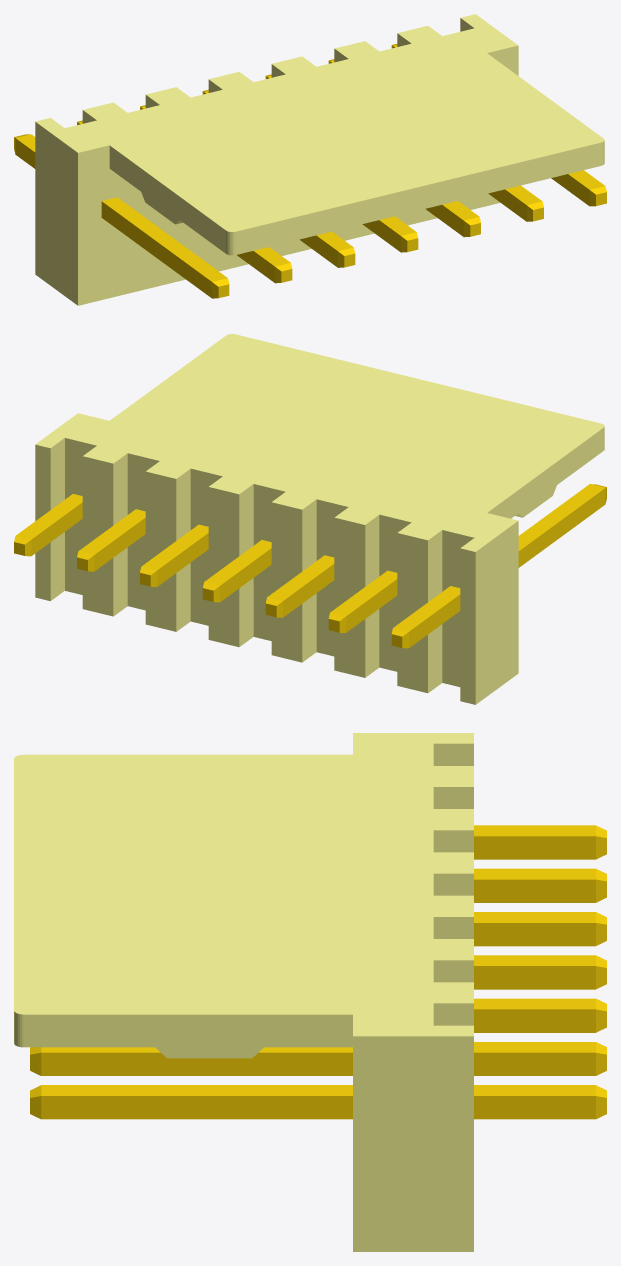
File: DS1070-7 (WF-7 CONNFLY).obj
3 renders of one model, top to bottom at view 1: azimuth 30°, elevation 25°; view 2: azimuth 150°, elevation 25°; view 3: azimuth 270°, elevation 25°, orthographic. The views are drawn at different scales.
Visible parts, largest first — view 1: DS1070-7_(WF-7_CONNFLY); view 2: DS1070-7_(WF-7_CONNFLY); view 3: DS1070-7_(WF-7_CONNFLY).
Part boxes in pixels (x1,y1,x2,y2): DS1070-7_(WF-7_CONNFLY): (14,14,606,305); DS1070-7_(WF-7_CONNFLY): (14,334,606,704); DS1070-7_(WF-7_CONNFLY): (14,733,606,1251).
Size of the model in its own units: 0.0187 by 0.0062 by 0.0155.
